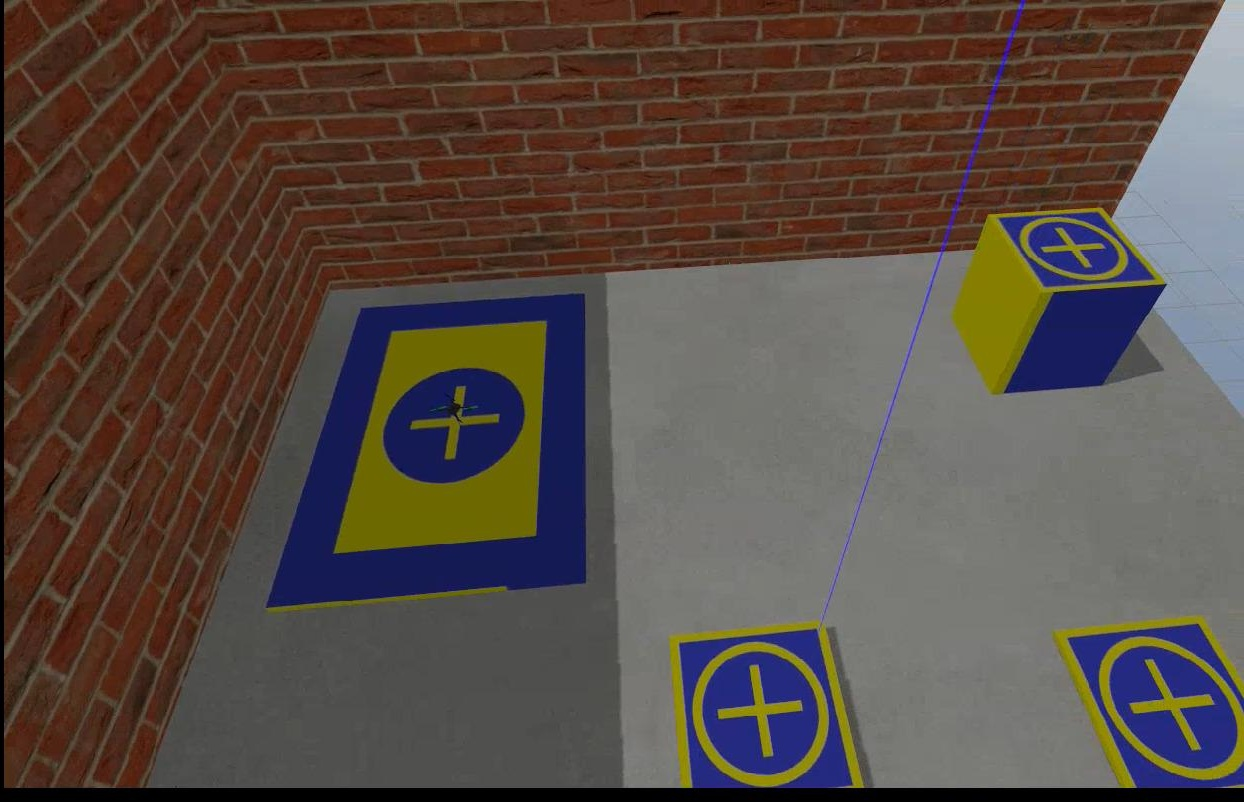large_base: (261, 288, 588, 616)
small_base: (668, 626, 868, 791), (1058, 617, 1242, 788), (984, 207, 1165, 290)
